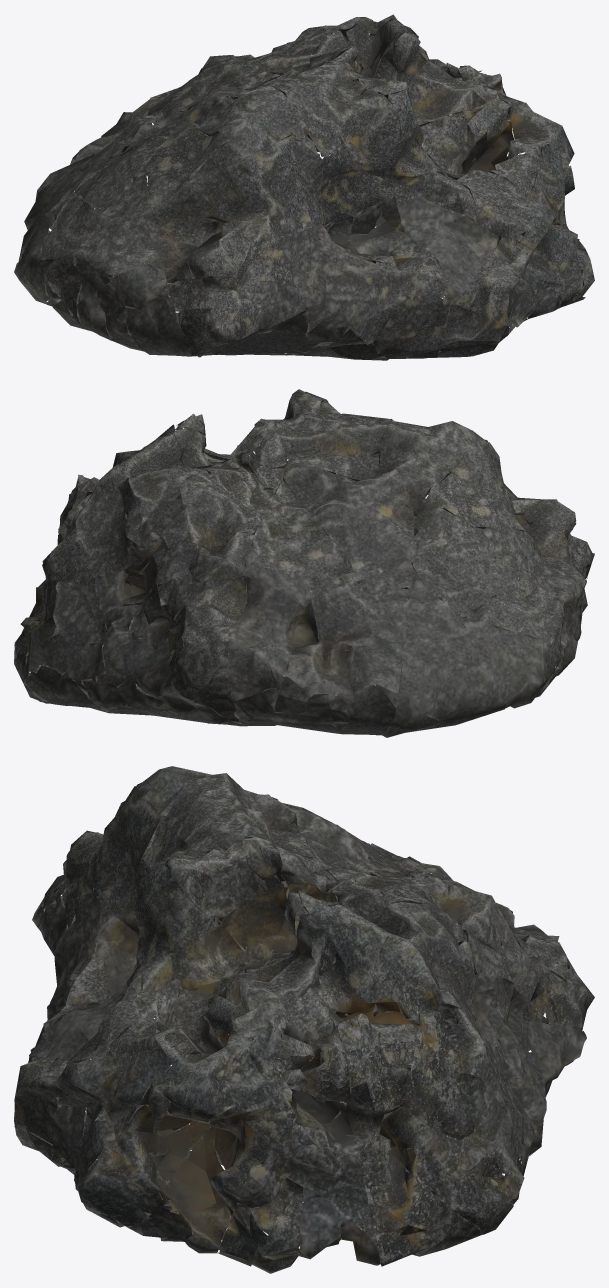
File: rock_c_mobile.glb
3 views of the same model, one above another, from view 1: azimuth 30°, elevation 25°; view 2: azimuth 150°, elevation 25°; view 3: azimuth 270°, elevation 25° (orthographic). The views are drawn at different scales.
Visible parts, largest first — view 1: Mesh_0; view 2: Mesh_0; view 3: Mesh_0.
Boxes of the visible parts, x1=… form: Mesh_0: x1=14, y1=14, x2=594, y2=360; Mesh_0: x1=14, y1=389, x2=594, y2=737; Mesh_0: x1=14, y1=766, x2=594, y2=1273.
Bounding box in the file's own units: 1.9 × 0.9806 × 1.59.
1 material, 1 textured.
